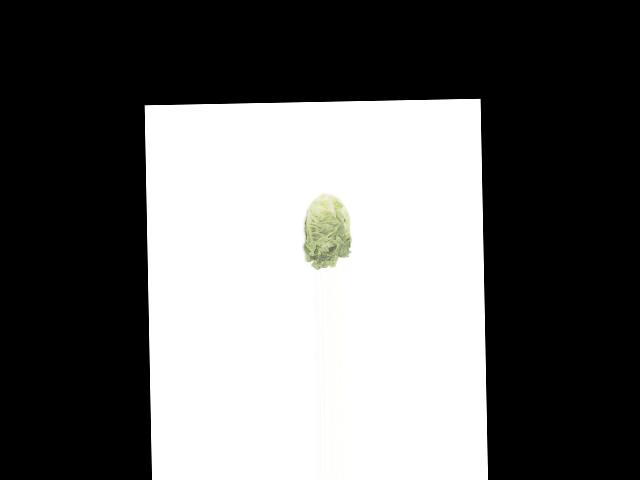lettuce: (299, 192, 356, 268)
